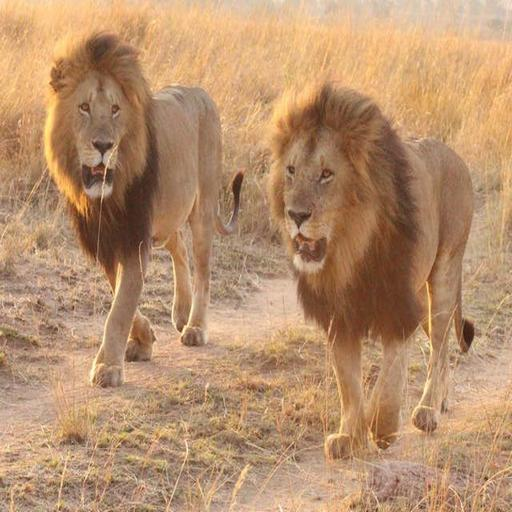Lion: (252, 77, 492, 465), (34, 29, 249, 395)
